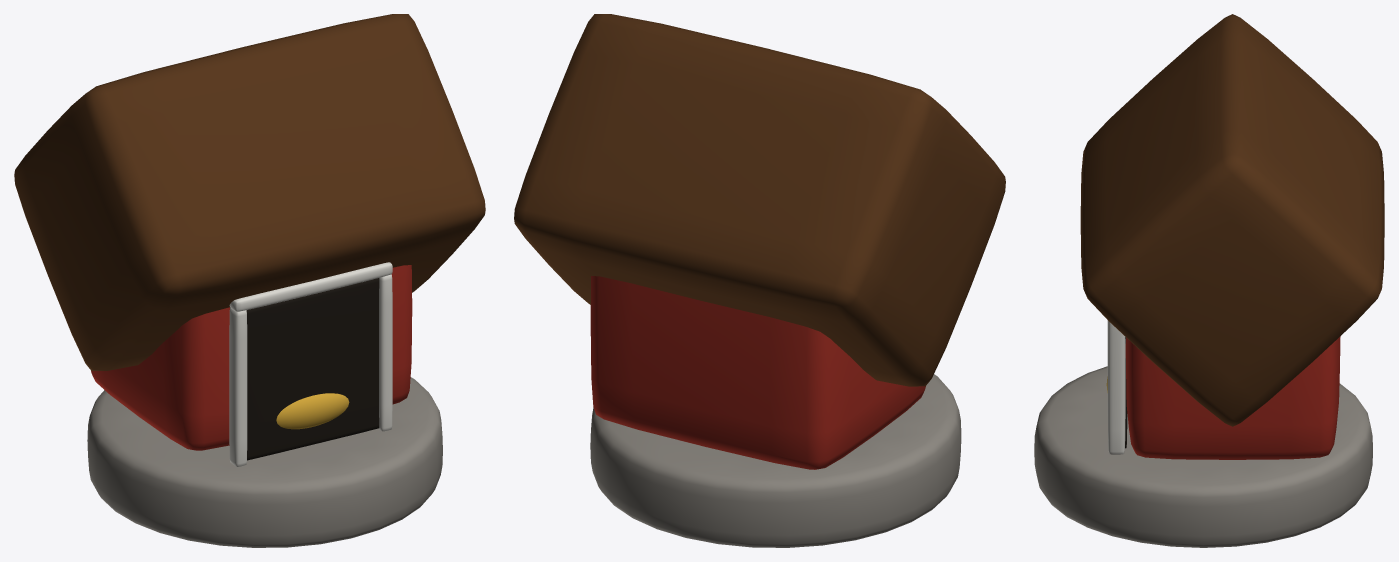
Rendered from Maschinenschuppen.fbx.
3 views of the same model, side by side, from view 1: azimuth 30°, elevation 25°; view 2: azimuth 150°, elevation 25°; view 3: azimuth 270°, elevation 25° (orthographic). The views are drawn at different scales.
Parts seen in each view (by area): view 1: Maschinenschuppen; view 2: Maschinenschuppen; view 3: Maschinenschuppen.
Boxes of the visible parts, bbox=[...] form: Maschinenschuppen: bbox=[14, 14, 485, 547]; Maschinenschuppen: bbox=[514, 14, 1005, 547]; Maschinenschuppen: bbox=[1034, 14, 1384, 547].
Size of the model in its own units: 1.04 by 1.22 by 0.9668.
